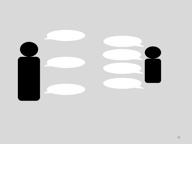left_speech: (42, 78, 88, 97), (42, 52, 87, 70), (41, 25, 85, 43)
right_speech: (42, 78, 88, 97), (101, 60, 143, 76), (101, 33, 145, 48), (102, 76, 144, 91), (101, 47, 144, 61)
